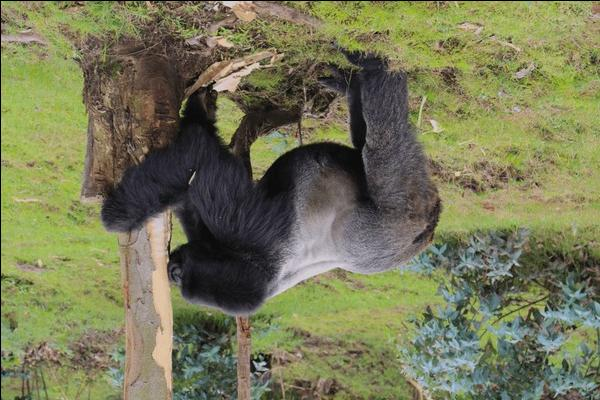goriile_montagne: (101, 64, 459, 339)
